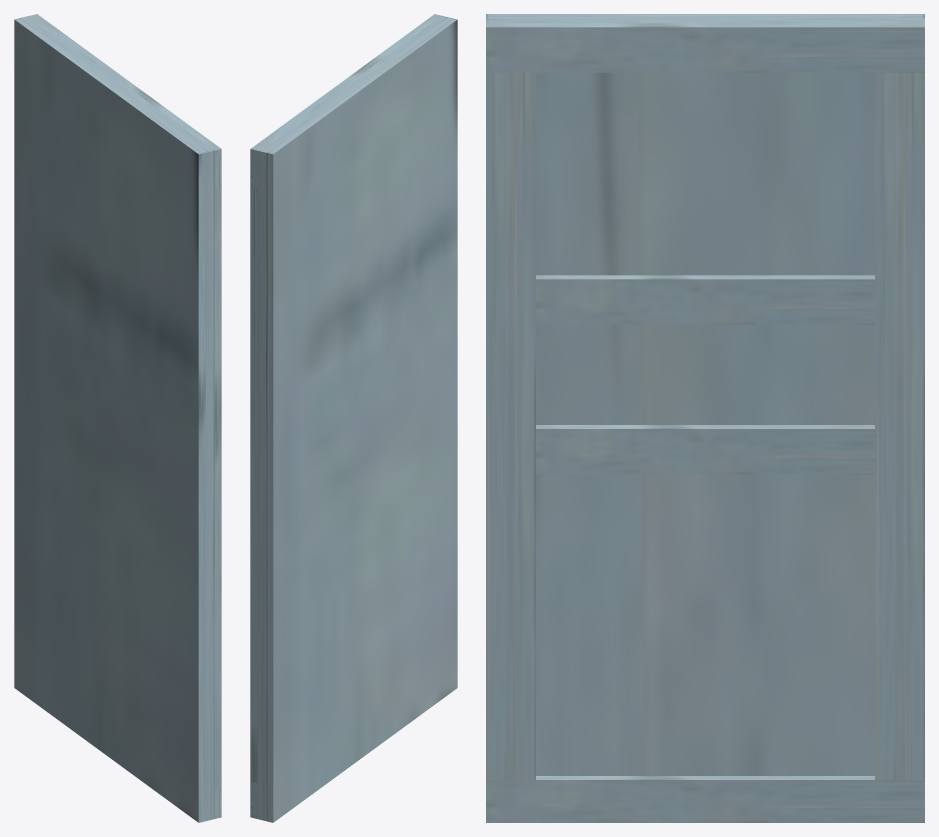
The model's file is door.gltf.
3 renders of one model, left to right at view 1: azimuth 30°, elevation 25°; view 2: azimuth 150°, elevation 25°; view 3: azimuth 270°, elevation 25°, orthographic. The views are drawn at different scales.
Parts seen in each view (by area): view 1: Cube, 큐브.001, 큐브.002; view 2: Cube, 큐브.004, 큐브.002; view 3: Cube, 큐브.001, 큐브.004, 큐브.002, 큐브.003, 큐브.005, 큐브.006.
Part boxes in pixels (x1,y1,x2,y2): Cube: (14, 15, 214, 822); 큐브.001: (214, 187, 221, 782); 큐브.002: (31, 14, 221, 188); Cube: (257, 15, 457, 822); 큐브.004: (250, 187, 257, 783); 큐브.002: (250, 14, 440, 188); Cube: (486, 14, 924, 775); 큐브.001: (486, 72, 535, 780); 큐브.004: (875, 72, 924, 780); 큐브.002: (486, 23, 924, 72); 큐브.003: (486, 776, 924, 822); 큐브.005: (536, 275, 875, 324); 큐브.006: (536, 425, 875, 474).
Bounding box in the file's own units: 1.43 × 40 × 20.
1 material, 1 textured.
